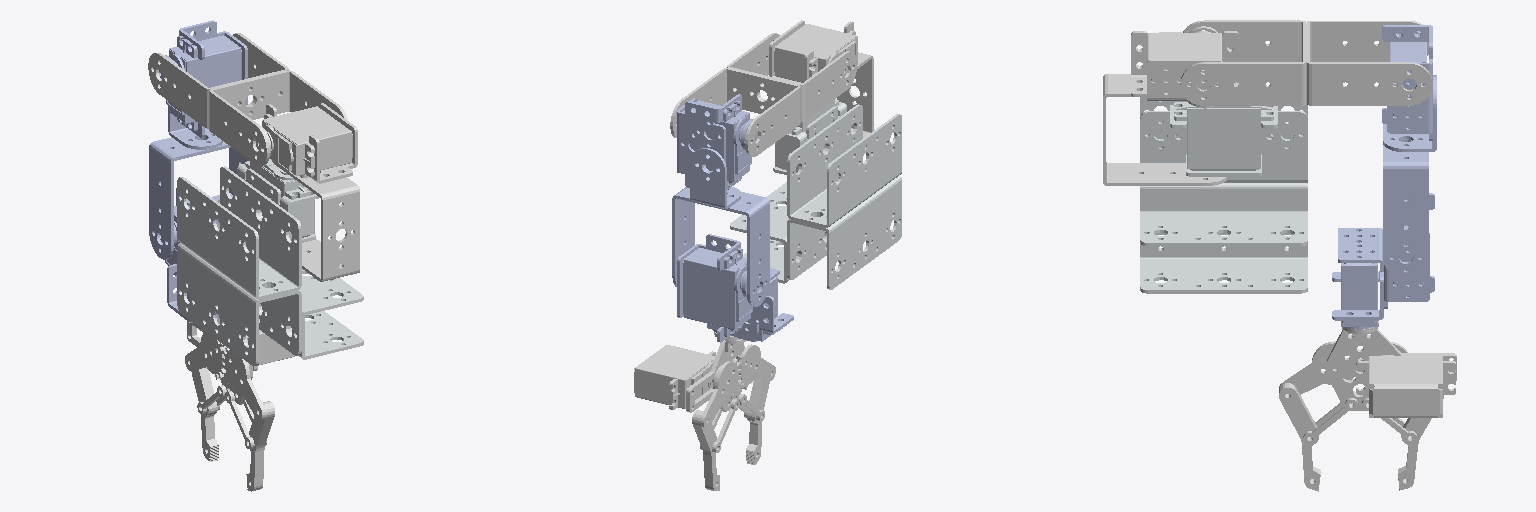
robot.urdf — robotics_arm:
<?xml version="1.0" encoding="utf-8"?>
<!-- This URDF was automatically created by SolidWorks to URDF Exporter! Originally created by [author] ([email redacted]) 
     Commit Version: 1.6.0-4-g7f85cfe  Build Version: 1.6.7995.38578
     For more information, please see http://wiki.ros.org/sw_urdf_exporter -->
<robot
  name="robotics_arm">
  <link
    name="base_link">
    <inertial>
      <origin
        xyz="0.0 0.0 0.0"
        rpy="0 0 0" />
      <mass
        value="0.19532" />
      <inertia
        ixx="0.00014045"
        ixy="2.4979E-07"
        ixz="7.5111E-16"
        iyy="0.00013483"
        iyz="-7.6006E-08"
        izz="6.0782E-05" />
    </inertial>
    <visual>
      <origin
        xyz="0 0 0"
        rpy="0 0 0" />
      <geometry>
        <mesh
          filename="package://robotics_arm_description/meshes/base_link.STL" />
      </geometry>
      <material
        name="">
        <color
          rgba="0.89804 0.91765 0.92941 1" />
      </material>
    </visual>
    <collision>
      <origin
        xyz="0 0 0"
        rpy="0 0 0" />
      <geometry>
        <mesh
          filename="package://robotics_arm_description/meshes/base_link.STL" />
      </geometry>
    </collision>
  </link>
  <link
    name="link_1">
    <inertial>
      <origin
        xyz="-0.0031208 -0.0049756 0.01652"
        rpy="0 0 0" />
      <mass
        value="0.075267" />
      <inertia
        ixx="3.3545E-05"
        ixy="-2.4977E-07"
        ixz="7.6005E-08"
        iyy="2.6443E-05"
        iyz="-7.5076E-16"
        izz="2.2815E-05" />
    </inertial>
    <visual>
      <origin
        xyz="0 0 0"
        rpy="0 0 0" />
      <geometry>
        <mesh
          filename="package://robotics_arm_description/meshes/link_1.STL" />
      </geometry>
      <material
        name="">
        <color
          rgba="0.89804 0.89804 0.89804 1" />
      </material>
    </visual>
    <collision>
      <origin
        xyz="0 0 0"
        rpy="0 0 0" />
      <geometry>
        <mesh
          filename="package://robotics_arm_description/meshes/link_1.STL" />
      </geometry>
    </collision>
  </link>
  <joint
    name="joint_1"
    type="revolute">
    <origin
      xyz="0.025 -0.01 0.105"
      rpy="-1.5708 0 3.142" />
    <parent
      link="base_link" />
    <child
      link="link_1" />
    <axis
      xyz="0 -1 0" />
    <limit
      lower="0"
      upper="3.142"
      effort="0"
      velocity="0" />
  </joint>
  <link
    name="link_2">
    <inertial>
      <origin
        xyz="-8.918E-07 -0.00018014 -0.049337"
        rpy="0 0 0" />
      <mass
        value="0.050948" />
      <inertia
        ixx="4.596E-05"
        ixy="2.8376E-20"
        ixz="-1.4107E-12"
        iyy="2.2618E-05"
        iyz="5.9094E-21"
        izz="2.8467E-05" />
    </inertial>
    <visual>
      <origin
        xyz="0 0 0"
        rpy="0 0 0" />
      <geometry>
        <mesh
          filename="package://robotics_arm_description/meshes/link_2.STL" />
      </geometry>
      <material
        name="">
        <color
          rgba="0.89804 0.89804 0.89804 1" />
      </material>
    </visual>
    <collision>
      <origin
        xyz="0 0 0"
        rpy="0 0 0" />
      <geometry>
        <mesh
          filename="package://robotics_arm_description/meshes/link_2.STL" />
      </geometry>
    </collision>
  </link>
  <joint
    name="joint_2"
    type="revolute">
    <origin
      xyz="0 -0.019745 0.001"
      rpy="3.1416 3.142 -1.571" />
    <parent
      link="link_1" />
    <child
      link="link_2" />
    <axis
      xyz="0 1 0" />
    <limit
      lower="0"
      upper="3.142"
      effort="0"
      velocity="0" />
  </joint>
  <link
    name="link_3">
    <inertial>
      <origin
        xyz="-0.074631 -0.0 -0.10187"
        rpy="0 0 0" />
      <mass
        value="0.08247" />
      <inertia
        ixx="2.3646E-05"
        ixy="-7.6043E-08"
        ixz="3.7595E-07"
        iyy="2.3364E-05"
        iyz="2.4976E-07"
        izz="3.9386E-05" />
    </inertial>
    <visual>
      <origin
        xyz="0 0 0"
        rpy="0 0 0" />
      <geometry>
        <mesh
          filename="package://robotics_arm_description/meshes/link_3.STL" />
      </geometry>
      <material
        name="">
        <color
          rgba="0.79216 0.81961 0.93333 1" />
      </material>
    </visual>
    <collision>
      <origin
        xyz="0 0 0"
        rpy="0 0 0" />
      <geometry>
        <mesh
          filename="package://robotics_arm_description/meshes/link_3.STL" />
      </geometry>
    </collision>
  </link>
  <joint
    name="joint_3"
    type="revolute">
    <!-- <origin
      xyz="0 -0.033579 0"
      rpy="0 -0.43322 3.1416" /> -->
    <origin
      xyz="0.0 -0.02 -0.11"
      rpy="0 3.142 0" />
    <parent
      link="link_2" />
    <child
      link="link_3" />
    <axis
      xyz="0 1 0" />
    <limit
      lower="0"
      upper="3.142"
      effort="0"
      velocity="0" />
  </joint>
  <link
    name="link_4">
    <inertial>
      <origin
        xyz="-0.001684 0.021693 0.033431"
        rpy="0 0 0" />
      <mass
        value="0.099586" />
      <inertia
        ixx="1.9146E-05"
        ixy="-1.5201E-07"
        ixz="-2.4979E-07"
        iyy="1.928E-05"
        iyz="-2.4979E-07"
        izz="3.0134E-05" />
    </inertial>
    <visual>
      <origin
        xyz="0 0 0"
        rpy="0 0 0" />
      <geometry>
        <mesh
          filename="package://robotics_arm_description/meshes/link_4.STL" />
      </geometry>
      <material
        name="">
        <color
          rgba="0.79216 0.81961 0.93333 1" />
      </material>
    </visual>
    <collision>
      <origin
        xyz="0 0 0"
        rpy="0 0 0" />
      <geometry>
        <mesh
          filename="package://robotics_arm_description/meshes/link_4.STL" />
      </geometry>
    </collision>
  </link>
  <joint
    name="joint_4"
    type="revolute">
    <origin
      xyz="-0.1 -0.0005 -0.0"
      rpy="3.1416 0 0" />
    <parent
      link="link_3" />
    <child
      link="link_4" />
    <axis
      xyz="0.0 -1 0.0" />
    <limit
      lower="0"
      upper="3.142"
      effort="0"
      velocity="0" />
  </joint>
  <link
    name="link_5">
    <inertial>
      <origin
        xyz="-0.000363540838981241 -0.00348535609044029 -8.80955530746519E-10"
        rpy="0 0 0" />
      <mass
        value="0.00593633535356358" />
      <inertia
        ixx="1.59159341867429E-07"
        ixy="1.90789506838977E-09"
        ixz="-8.84539102937578E-17"
        iyy="2.93200101138606E-07"
        iyz="-3.77523037886217E-16"
        izz="1.49447486803871E-07" />
    </inertial>
    <visual>
      <origin
        xyz="0 0 0"
        rpy="0 0 0" />
      <geometry>
        <mesh
          filename="package://robotics_arm_description/meshes/link_5.STL" />
      </geometry>
      <material
        name="">
        <color
          rgba="0.898039215686275 0.898039215686275 0.898039215686275 1" />
      </material>
    </visual>
    <collision>
      <origin
        xyz="0 0 0"
        rpy="0 0 0" />
      <geometry>
        <mesh
          filename="package://robotics_arm_description/meshes/link_5.STL" />
      </geometry>
    </collision>
  </link>
  <joint
    name="joint_5"
    type="revolute">
    <origin
      xyz="-0.048 -0.03 0.026"
      rpy="3.1416 3.142 1.5708" />
    <parent
      link="link_4" />
    <child
      link="link_5" />
    <axis
      xyz="0 1 0" />
    <limit
      lower="0"
      upper="3.142"
      effort="0"
      velocity="0" />
  </joint>
  <link
    name="gripper">
    <inertial>
      <origin
        xyz="-0.0037798349353198 0.00505161938533374 -0.0166869028682377"
        rpy="0 0 0" />
      <mass
        value="0.128467416643876" />
      <inertia
        ixx="2.35050929119779E-05"
        ixy="6.3871315827775E-08"
        ixz="-1.02571386070324E-06"
        iyy="3.68439717723407E-05"
        iyz="-4.11989922202625E-08"
        izz="2.19596119112315E-05" />
    </inertial>
    <visual>
      <origin
        xyz="0 0 0"
        rpy="0 0 0" />
      <geometry>
        <mesh
          filename="package://robotics_arm_description/meshes/gripper.STL" />
      </geometry>
      <material
        name="">
        <color
          rgba="0.898039215686275 0.898039215686275 0.898039215686275 1" />
      </material>
    </visual>
    <collision>
      <origin
        xyz="0 0 0"
        rpy="0 0 0" />
      <geometry>
        <mesh
          filename="package://robotics_arm_description/meshes/gripper.STL" />
      </geometry>
    </collision>
  </link>
  <joint
    name="girpper_joint"
    type="revolute">
    <origin
      xyz="0 -0.029286 -0.014782"
      rpy="-3.1416 -0.99851 1.5708" />
    <parent
      link="link_5" />
    <child
      link="gripper" />
    <axis
      xyz="0 0 0" />
    <limit
      lower="0"
      upper="0"
      effort="0"
      velocity="0" />
  </joint>
</robot>

--- Render facts (derived) ---
The picture shows the robot from 3 angles, left to right: view 1: azimuth 30°, elevation 25°; view 2: azimuth 150°, elevation 25°; view 3: azimuth 270°, elevation 25°; orthographic projection.
Model robotics_arm with 7 links and 6 joints (6 revolute), rooted at base_link, posed all joints at 0.
Visible links, largest first — view 1: base_link, link_1, link_2, link_3, gripper, link_4; view 2: base_link, link_3, gripper, link_2, link_4, link_1; view 3: base_link, link_2, gripper, link_3, link_1, link_4.
Boxes of the visible links, x1,y1,x2,y2 form: base_link: [177, 159, 363, 365]; link_1: [258, 103, 359, 281]; link_2: [148, 33, 347, 165]; link_3: [149, 20, 249, 259]; gripper: [185, 320, 294, 491]; link_4: [160, 188, 232, 329]; base_link: [730, 99, 901, 289]; link_3: [672, 94, 769, 306]; gripper: [634, 340, 775, 490]; link_2: [670, 33, 856, 156]; link_4: [677, 234, 793, 342]; link_1: [769, 20, 873, 137]; base_link: [1140, 97, 1307, 293]; link_2: [1180, 20, 1432, 105]; gripper: [1279, 329, 1456, 491]; link_3: [1382, 25, 1436, 278]; link_1: [1103, 31, 1238, 185]; link_4: [1332, 193, 1434, 329].
Size in the robot's own frame: 0.0984 by 0.1904 by 0.2688 metres.
Meshes: 7 distinct files referenced, 7 mesh visuals loaded (7 binary STL).
